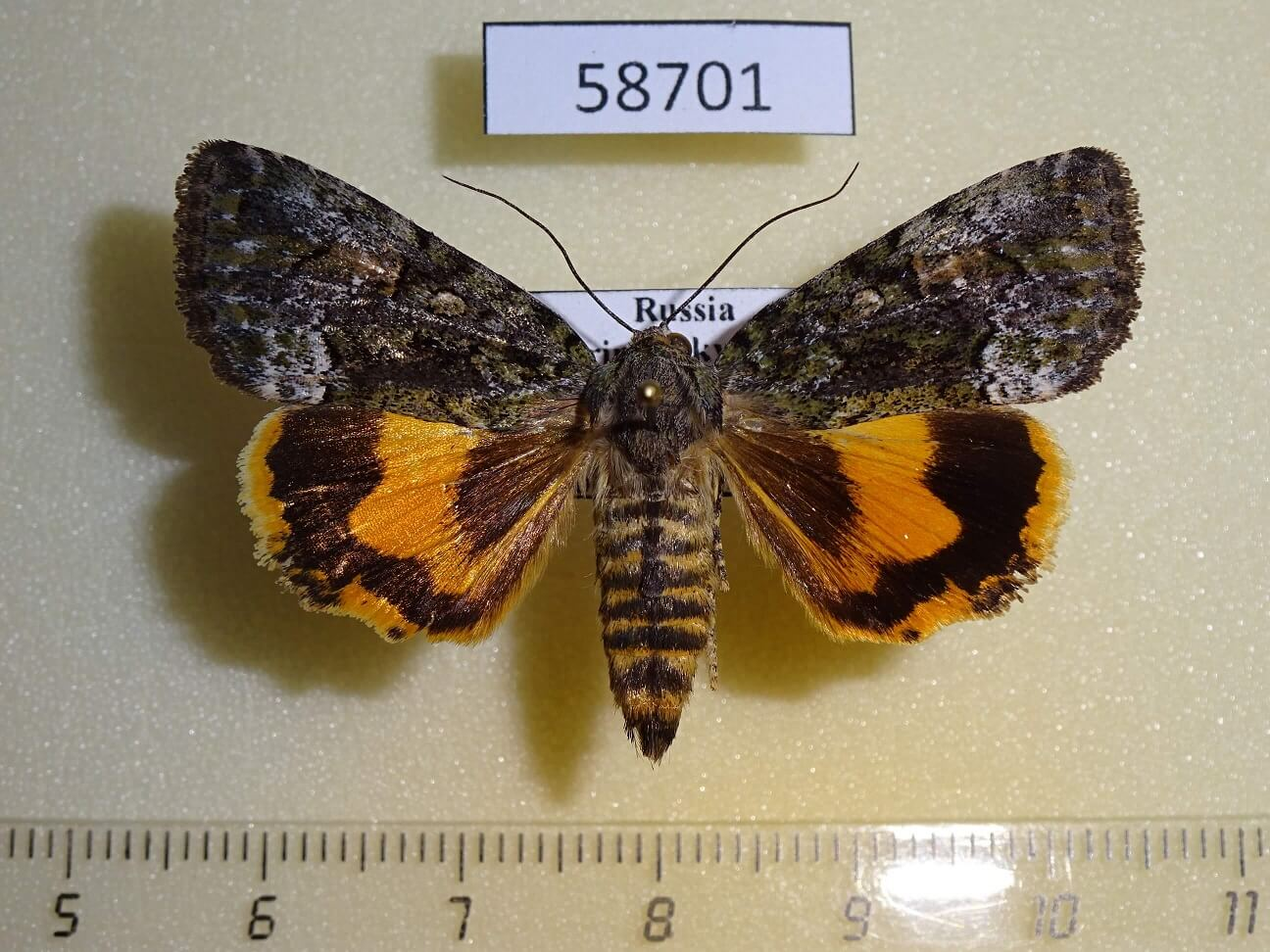Noctuidae: (167, 145, 1154, 766)
